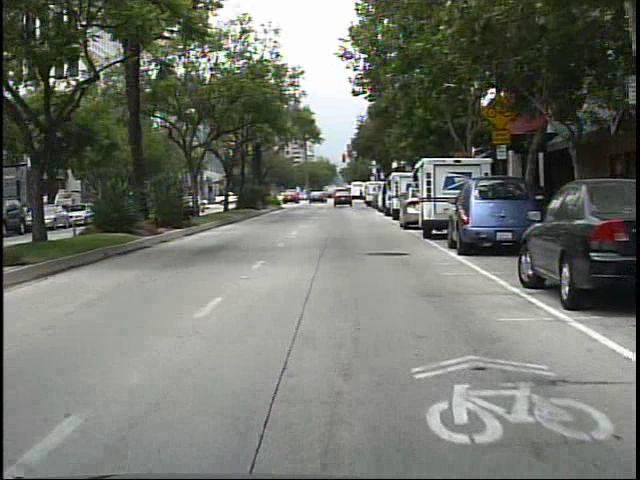person: (358, 183, 365, 204)
